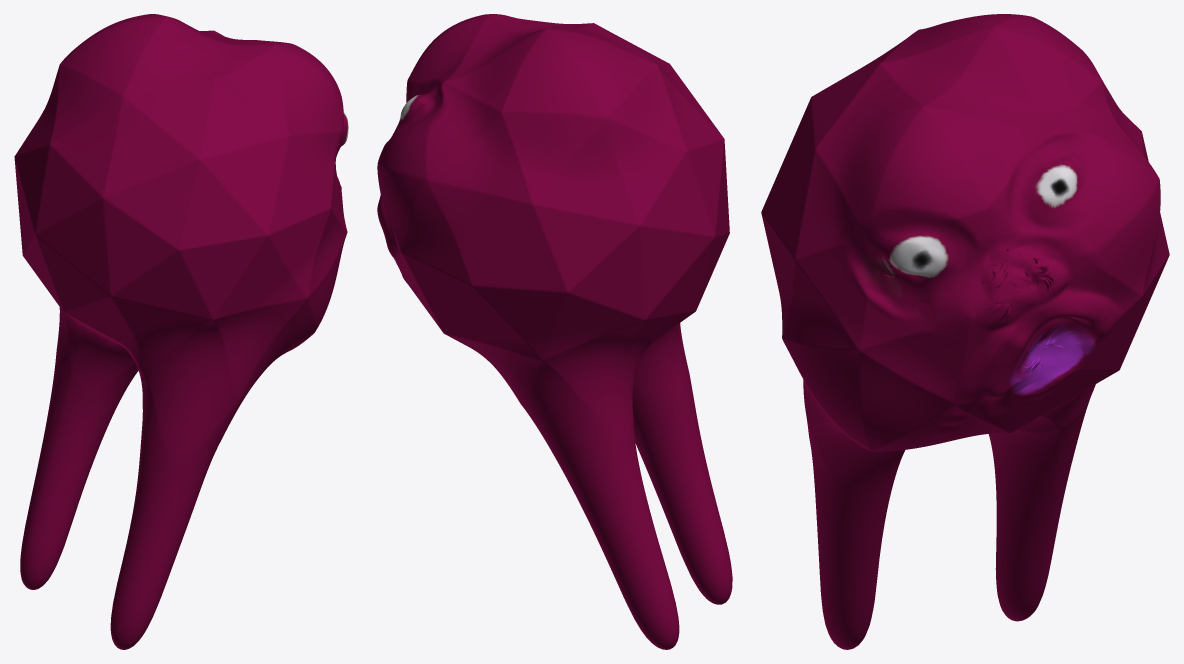
The model's file is isosphere.fbx.
3 renders of one model, left to right at view 1: azimuth 30°, elevation 25°; view 2: azimuth 150°, elevation 25°; view 3: azimuth 270°, elevation 25°, orthographic. The views are drawn at different scales.
Parts seen in each view (by area): view 1: Icosphere; view 2: Icosphere; view 3: Icosphere.
Boxes of the visible parts, left/top/right/bottom form: Icosphere: left=14, top=14, right=348, bottom=649; Icosphere: left=377, top=14, right=732, bottom=649; Icosphere: left=761, top=14, right=1169, bottom=649.
Bounding box in the file's own units: 200 × 365 × 198.
